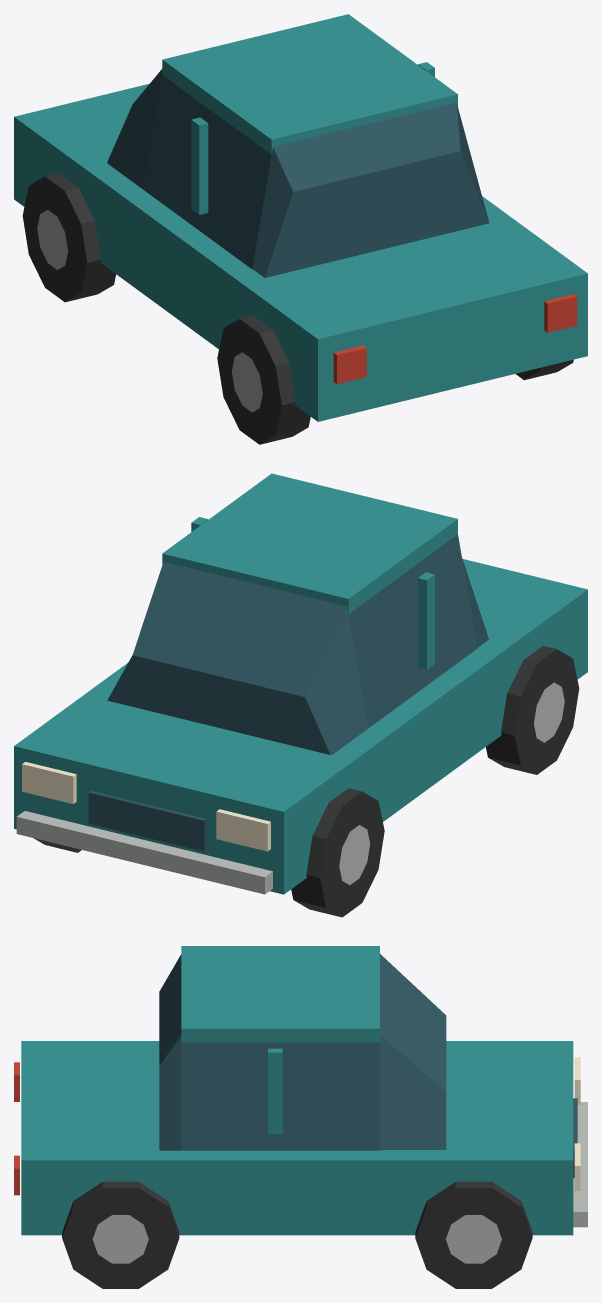
The model's file is compact.glb.
3 views of the same model, one above another, from view 1: azimuth 30°, elevation 25°; view 2: azimuth 150°, elevation 25°; view 3: azimuth 270°, elevation 25° (orthographic). The views are drawn at different scales.
Visible parts, largest first — view 1: CompactModel traffic_teal, CompactModel traffic_glass, CompactModel traffic_rubber, CompactModel traffic_metal, CompactModel traffic_red; view 2: CompactModel traffic_teal, CompactModel traffic_glass, CompactModel traffic_rubber, CompactModel traffic_metal, CompactModel traffic_light; view 3: CompactModel traffic_teal, CompactModel traffic_glass, CompactModel traffic_rubber, CompactModel traffic_metal, CompactModel traffic_light, CompactModel traffic_red.
Part boxes in pixels (x1,y1,x2,y2): CompactModel traffic_teal: (14,14,587,421); CompactModel traffic_glass: (107,69,489,277); CompactModel traffic_rubber: (22,173,573,444); CompactModel traffic_metal: (37,210,262,412); CompactModel traffic_red: (333,294,577,384); CompactModel traffic_teal: (14,473,587,894); CompactModel traffic_glass: (88,534,488,851); CompactModel traffic_rubber: (33,645,579,917); CompactModel traffic_metal: (16,682,564,894); CompactModel traffic_light: (22,762,270,851); CompactModel traffic_teal: (21,946,573,1235); CompactModel traffic_glass: (159,954,577,1177); CompactModel traffic_rubber: (62,1181,532,1288); CompactModel traffic_metal: (92,1102,587,1263); CompactModel traffic_light: (574,1057,580,1190); CompactModel traffic_red: (14,1062,19,1195).
Bounding box in the file's own units: 1.84 × 1.51 × 3.33.
